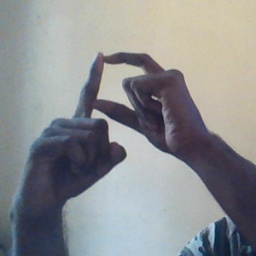D: (62, 47, 174, 162)
